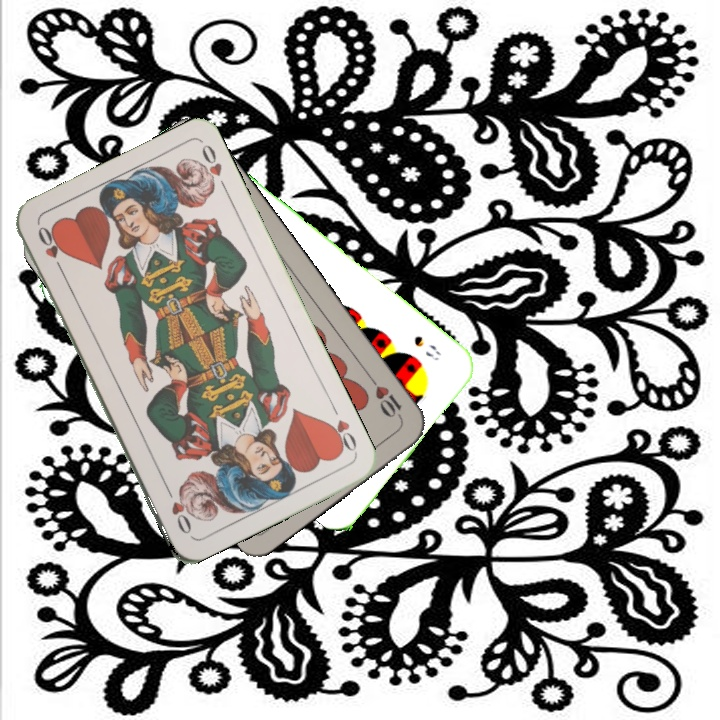H10: (364, 372, 405, 423)
HO: (322, 400, 360, 456), (33, 222, 67, 277)
S8: (410, 331, 443, 364)
